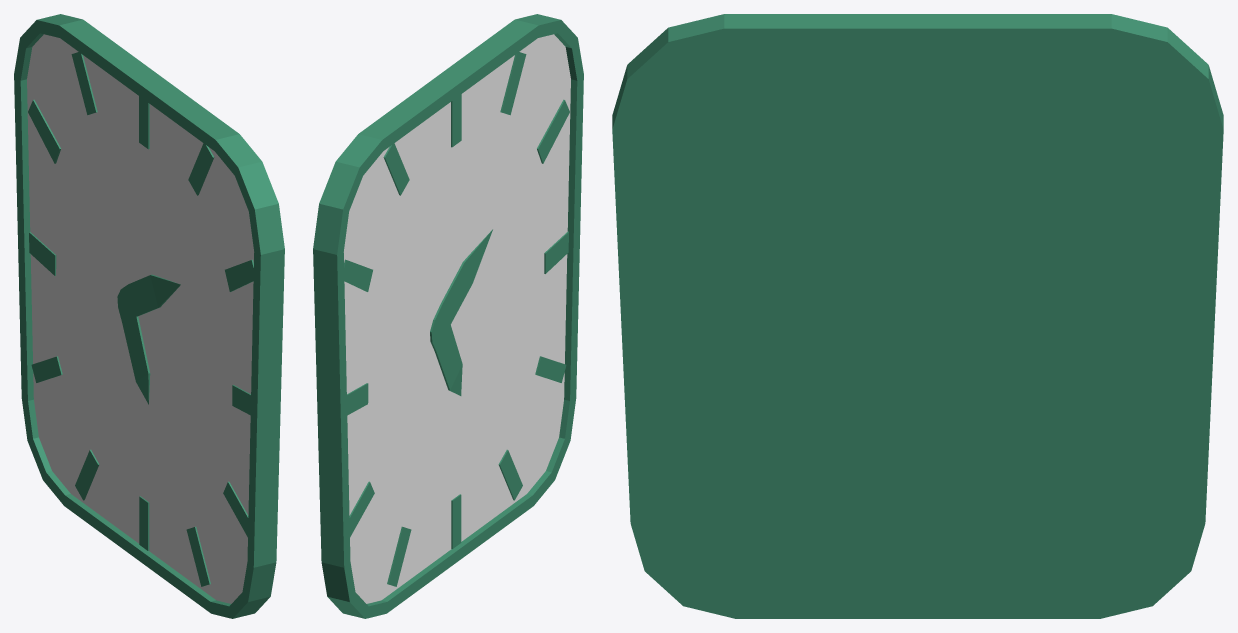
File: Clock_8.fbx
3 views of the same model, side by side, from view 1: azimuth 30°, elevation 25°; view 2: azimuth 150°, elevation 25°; view 3: azimuth 270°, elevation 25° (orthographic). The views are drawn at different scales.
Parts seen in each view (by area): view 1: Clock_8; view 2: Clock_8; view 3: Clock_8.
Boxes of the visible parts, x1,y1,x2,y2 form: Clock_8: (14, 14, 284, 618); Clock_8: (313, 14, 583, 618); Clock_8: (612, 14, 1223, 618).
Size of the model in its own units: 0.0246 by 0.4658 by 0.4366.
